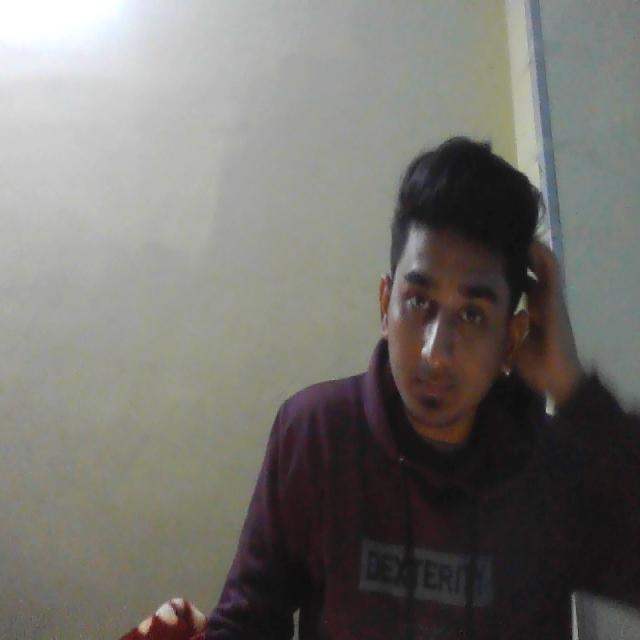real: (378, 163, 531, 452)
